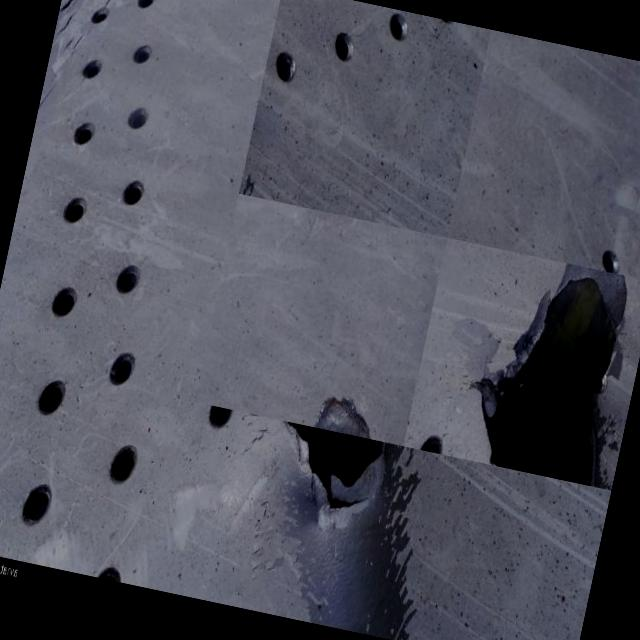crack: (453, 250, 640, 487), (268, 422, 390, 524), (53, 0, 77, 37)
